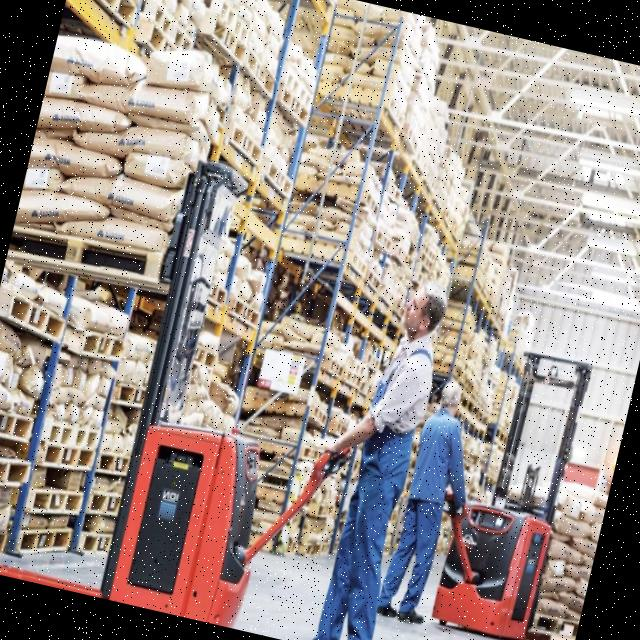Person: (282, 265, 458, 640), (374, 374, 494, 628)
